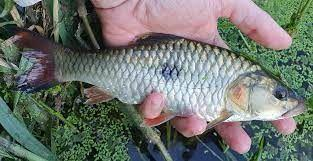Black Spotted Barb: (9, 22, 308, 123)
